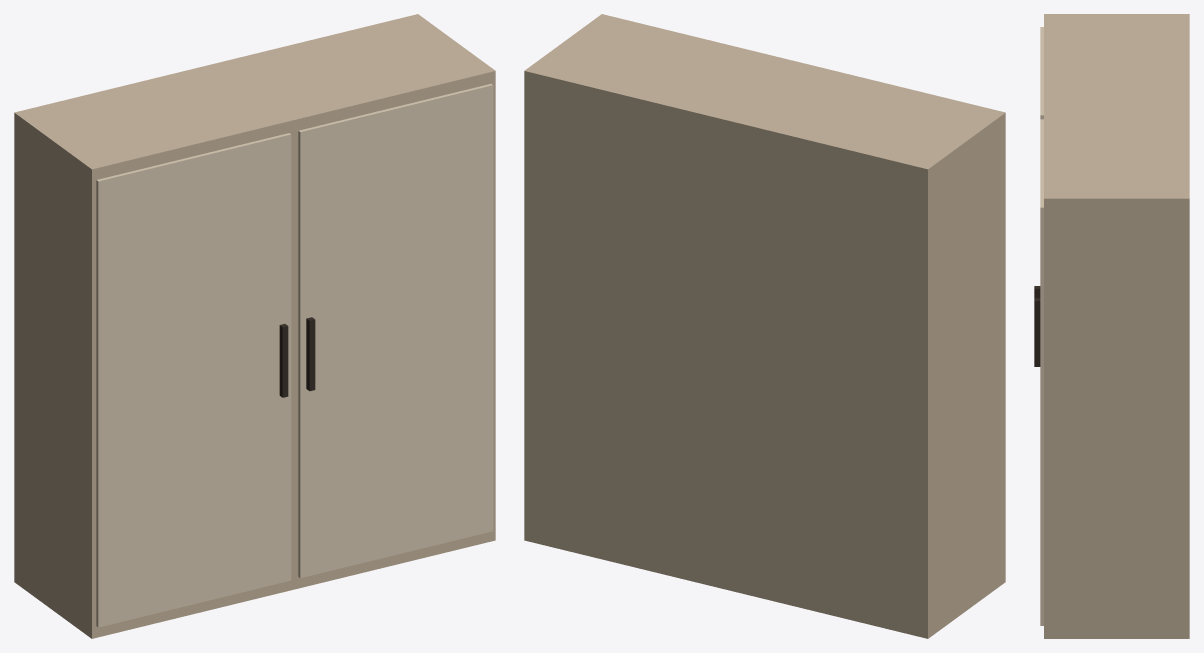
File: wardrobe.glb
3 renders of one model, left to right at view 1: azimuth 30°, elevation 25°; view 2: azimuth 150°, elevation 25°; view 3: azimuth 270°, elevation 25°, orthographic. The views are drawn at different scales.
Parts seen in each view (by area): view 1: wardrobe; view 2: wardrobe; view 3: wardrobe.
Part boxes in pixels (bbox=[...]): wardrobe: bbox=[14, 14, 495, 638]; wardrobe: bbox=[524, 14, 1005, 638]; wardrobe: bbox=[1034, 14, 1189, 638].
Bounding box in the file's own units: 1.8 × 2 × 0.64.
